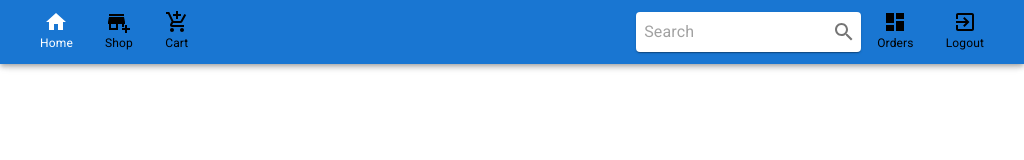
Header component › Logout user › render non user links after user logs out
The image size is (1024, 160).
What coordinates should you click on to do the following:
click the link "Logout"
I would click on:
 (965, 30)
Its box is [946,10,984,50].
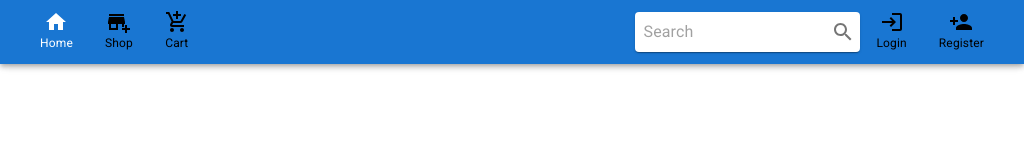
Now the link "Login" is shown, box [876,10,907,50]
